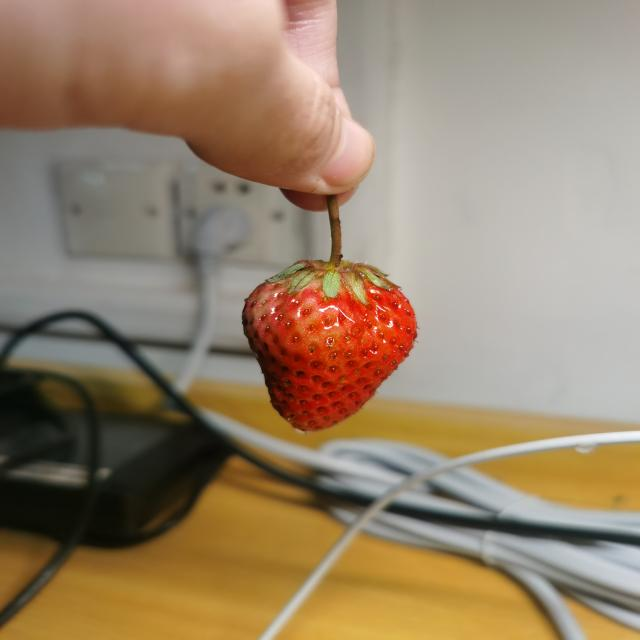stem: (325, 199, 341, 272)
strawberry: (242, 261, 417, 432)
